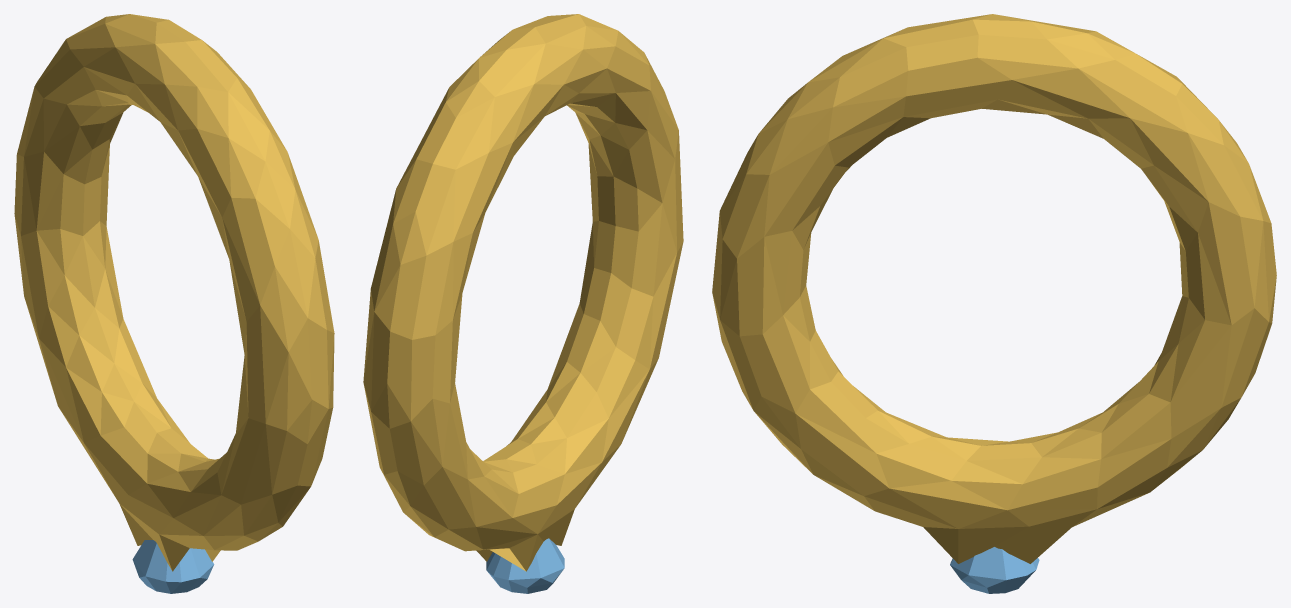
The model's file is WeddingRing.fbx.
3 renders of one model, left to right at view 1: azimuth 30°, elevation 25°; view 2: azimuth 150°, elevation 25°; view 3: azimuth 270°, elevation 25°, orthographic. The views are drawn at different scales.
Parts seen in each view (by area): view 1: Torus; view 2: Torus; view 3: Torus.
Part boxes in pixels (bbox=[...]): Torus: bbox=[14, 14, 334, 593]; Torus: bbox=[363, 14, 683, 593]; Torus: bbox=[712, 14, 1276, 593].
Size of the model in its own units: 40.16 by 264 by 240.
